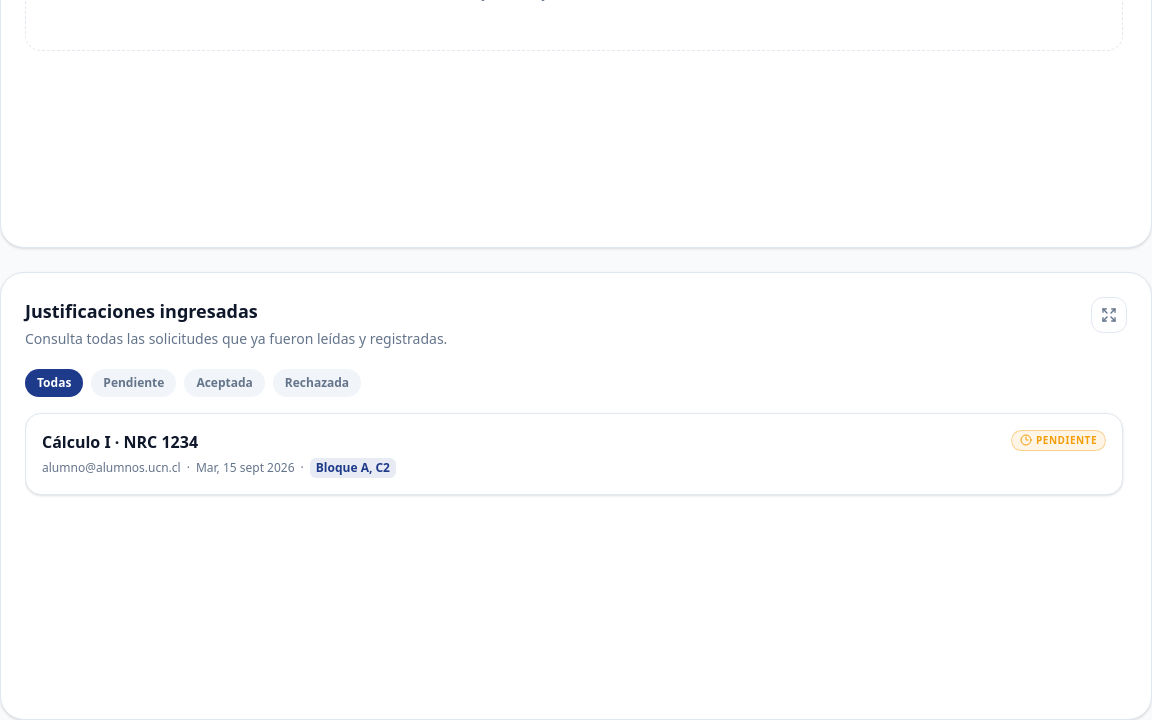
Test: JustificationsPage (coordinación de apoyo docente) › aceptar envía la decisión con la categoría y actualiza el historial
(page scrolled)
Click the button "Cálculo I · NRC 1234" at [76, 442], box 25,413 -> 1123,495
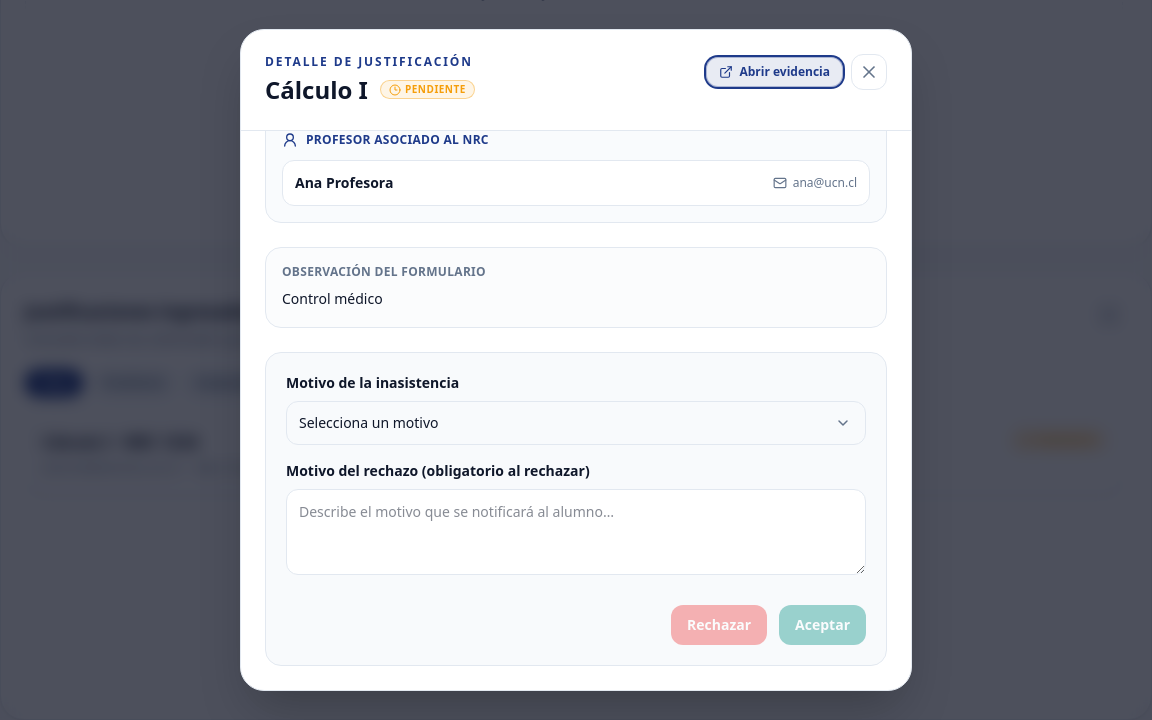
expect the button "Aceptar" is disabled: met, box 779,604 -> 866,644
Select "Motivo médico" in the dropdown labelled "Motivo de la inasistencia" at [576, 422], box 286,400 -> 866,444
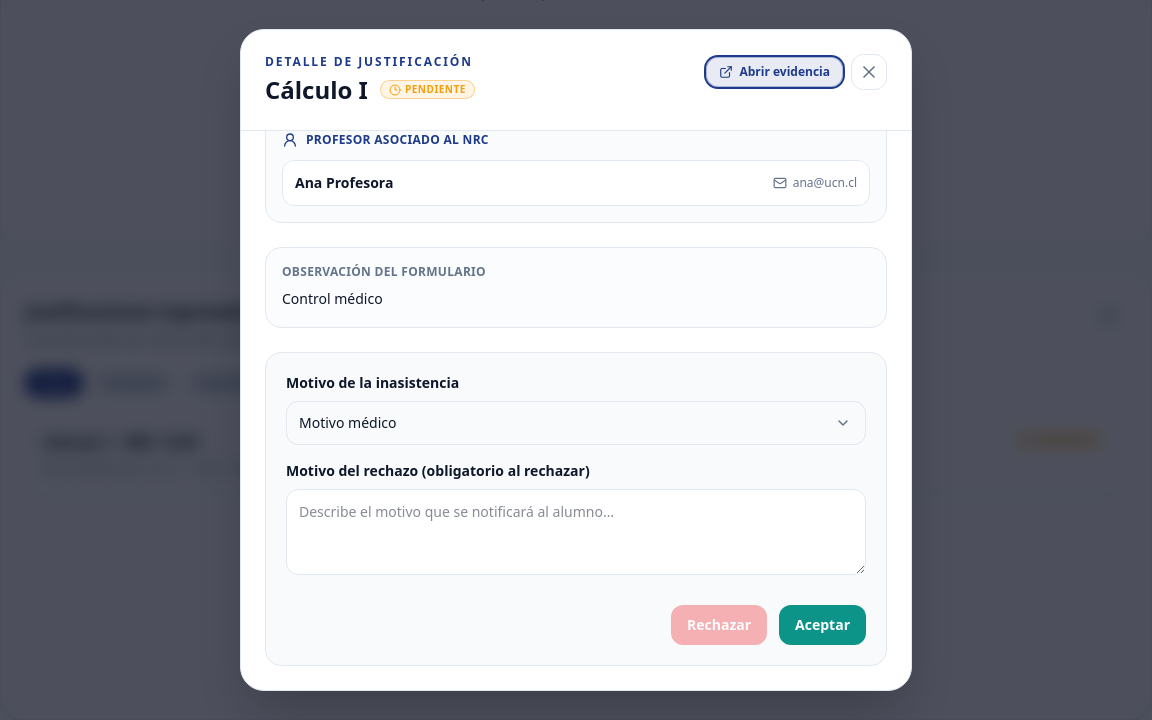
expect the button "Aceptar" is enabled: met
Click the button "Aceptar" at [823, 624], box 779,604 -> 866,644
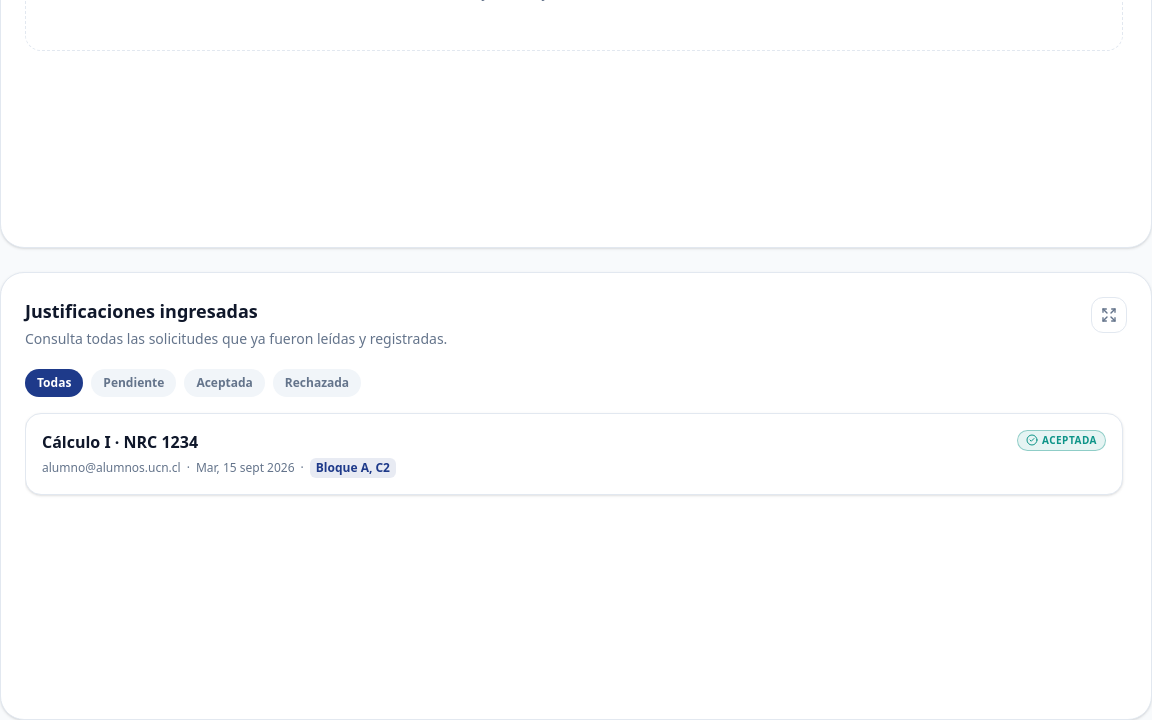
expect the dialog is gone: met
expect the text "Aceptada" is shown: met, box 1042,433 -> 1097,448
